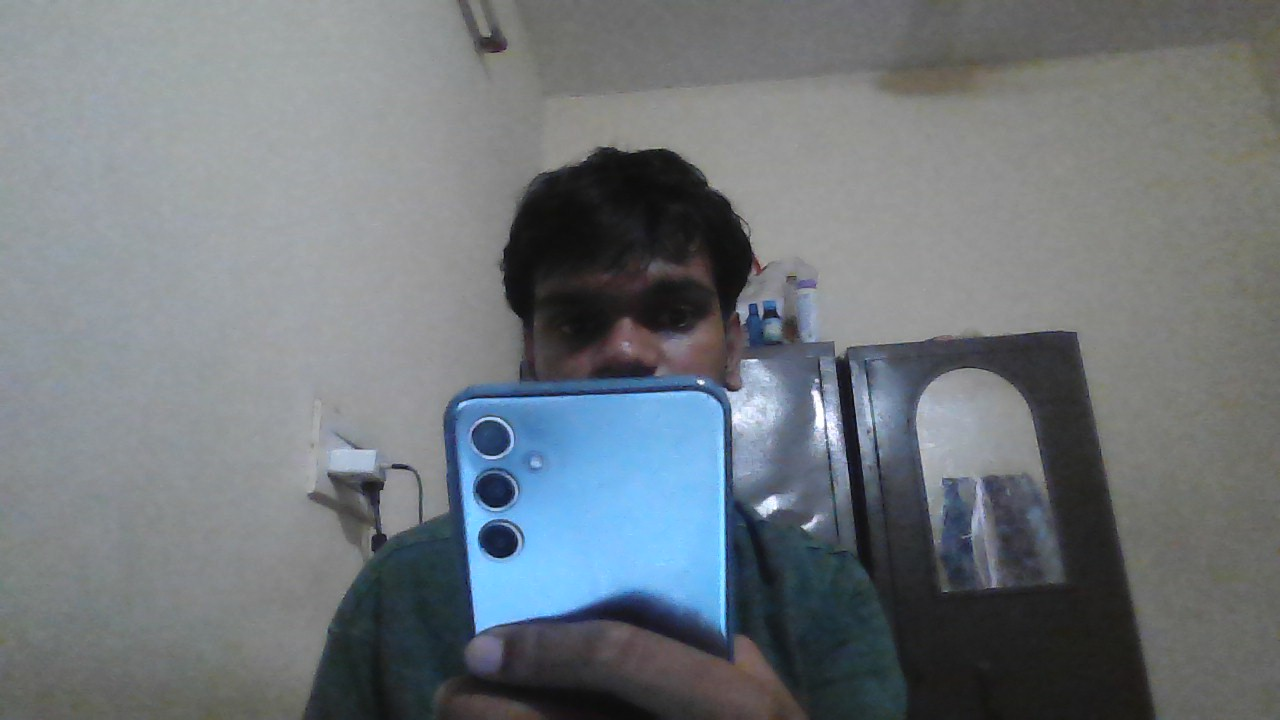phone: (453, 381, 728, 619)
